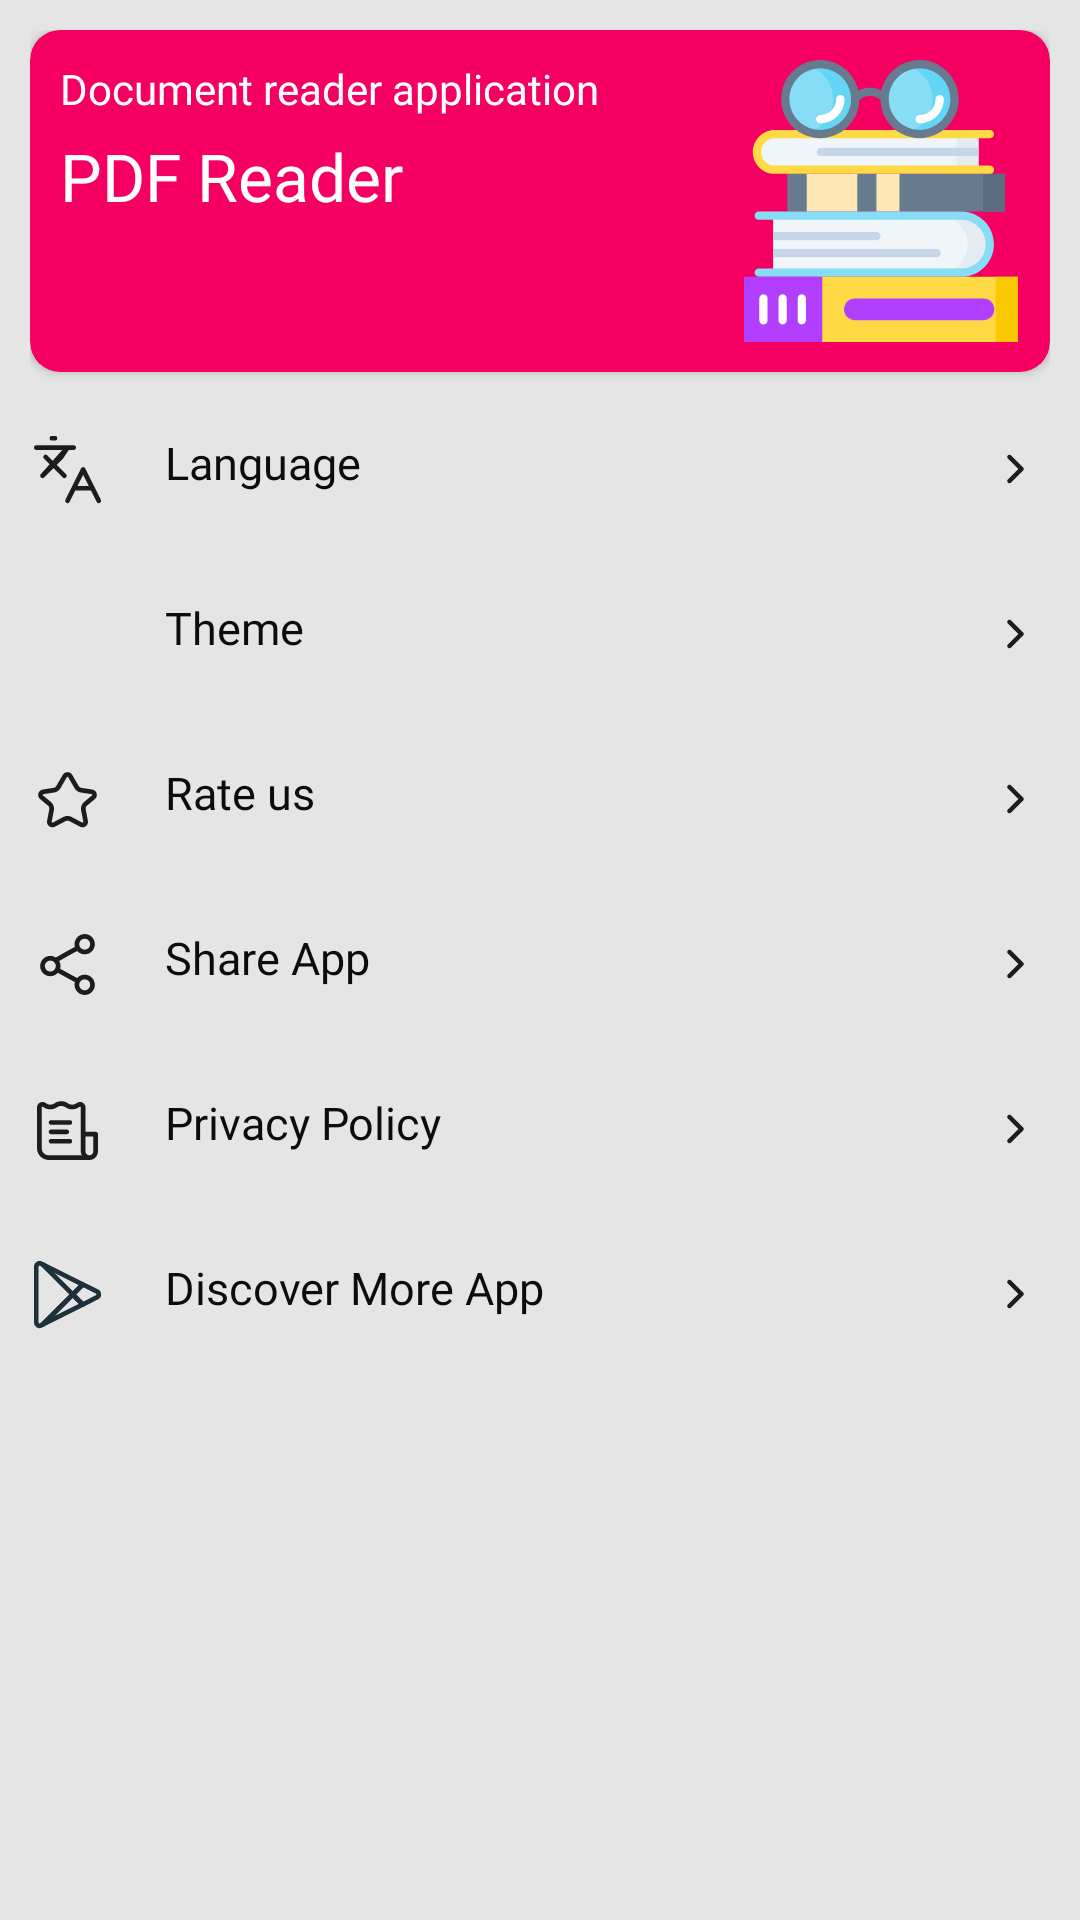

Locate icon controls on the screen. Image size 1080×1920, boxes as bbox=(x1, y1, x2, y2).
setting arrow: bbox=(1007, 454, 1024, 484), bbox=(1007, 619, 1024, 649), bbox=(1007, 784, 1024, 814), bbox=(1007, 949, 1024, 979), bbox=(1007, 1114, 1024, 1144), bbox=(1007, 1279, 1024, 1309)
setting rate app: bbox=(38, 772, 97, 828)
setting share: bbox=(40, 934, 95, 995)
setting term: bbox=(37, 1101, 98, 1160)
